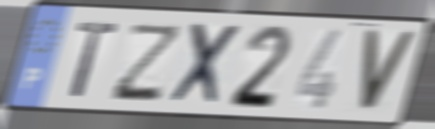2: (229, 23, 295, 114)
4: (292, 26, 344, 114)
T: (68, 19, 121, 101)
V: (358, 26, 419, 116)
X: (165, 20, 244, 109)
Z: (107, 21, 186, 103)
